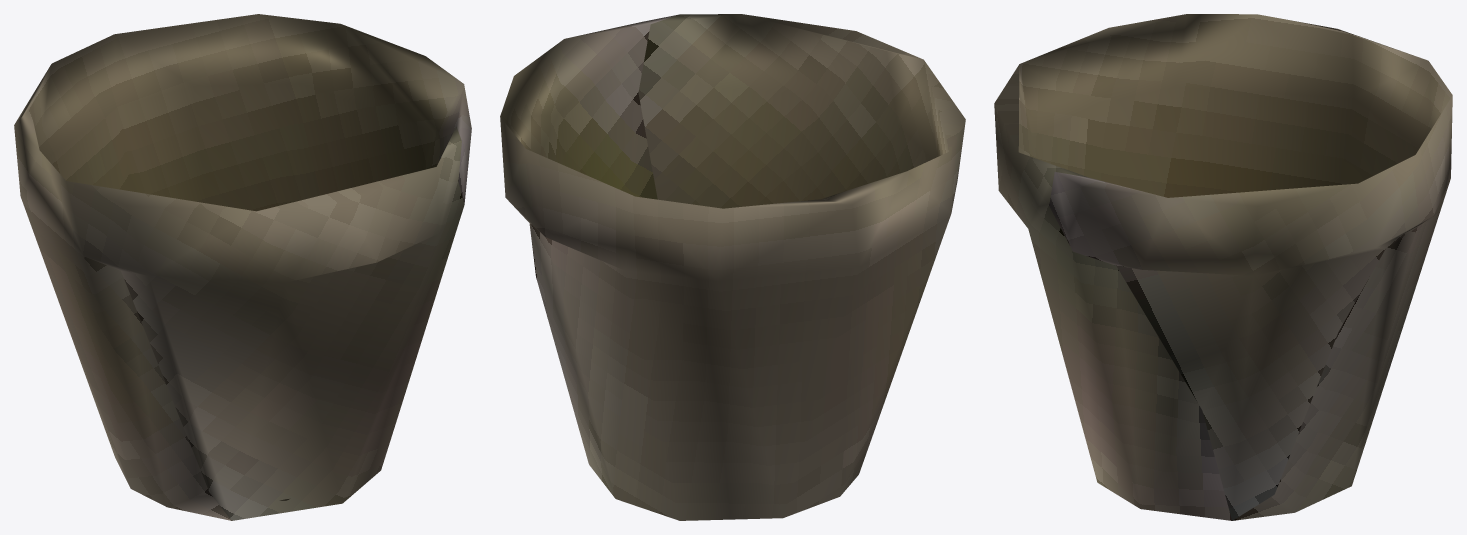
File: Cole_Hardware_Flower_Pot_1025-low.glb
3 renders of one model, left to right at view 1: azimuth 30°, elevation 25°; view 2: azimuth 150°, elevation 25°; view 3: azimuth 270°, elevation 25°, orthographic.
Visible parts, largest first — view 1: Cole_Hardware_Flower_Pot_1025; view 2: Cole_Hardware_Flower_Pot_1025; view 3: Cole_Hardware_Flower_Pot_1025.
Boxes of the visible parts, box(x1,y1,x2,y2) form: Cole_Hardware_Flower_Pot_1025: box(14, 14, 471, 520); Cole_Hardware_Flower_Pot_1025: box(500, 14, 965, 520); Cole_Hardware_Flower_Pot_1025: box(994, 14, 1452, 520).
Size of the model in its own units: 0.2466 by 0.2149 by 0.2441.
Materials: 1 (1 with a texture image).
